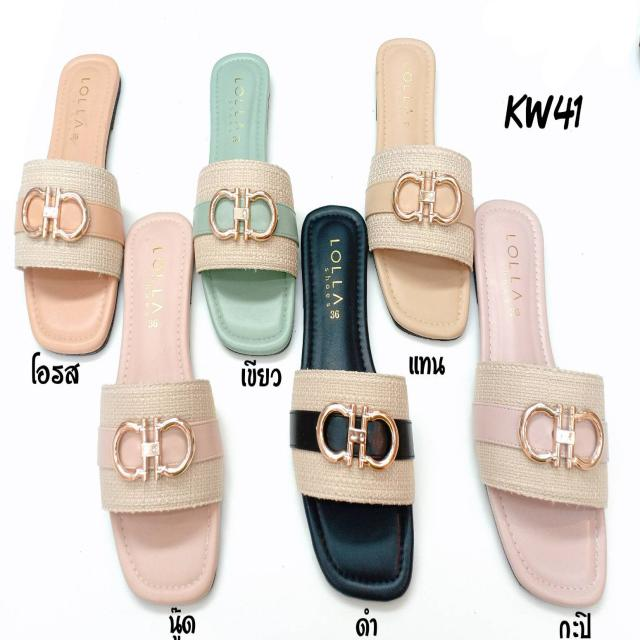black: (295, 206, 415, 597)
green: (203, 53, 296, 356)
kapi: (476, 202, 608, 610)
nood: (108, 217, 220, 598)
orot: (25, 53, 120, 356)
tan: (368, 43, 474, 338)
